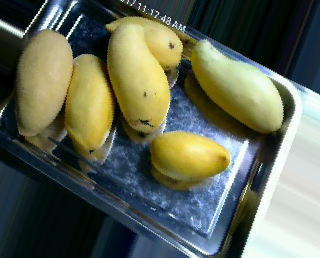Mango: (182, 30, 289, 141), (103, 19, 175, 133), (10, 29, 76, 141), (61, 46, 121, 150), (143, 125, 232, 188), (103, 7, 184, 75)
